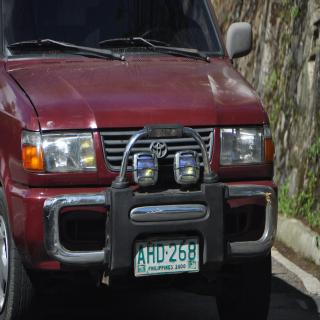license: (136, 238, 200, 278)
